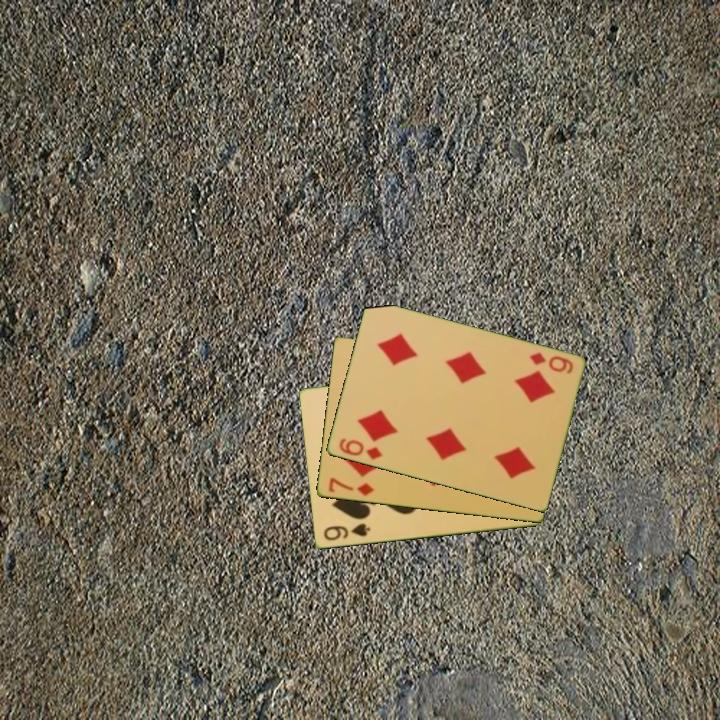6d: (525, 349, 576, 377), (335, 435, 384, 463)
7d: (325, 474, 376, 499)
9s: (320, 520, 372, 544)
